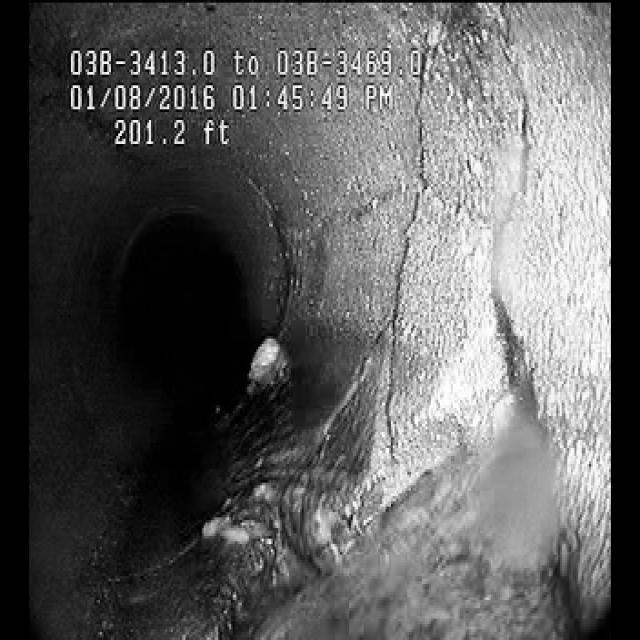Fracture: (312, 130, 450, 492)
